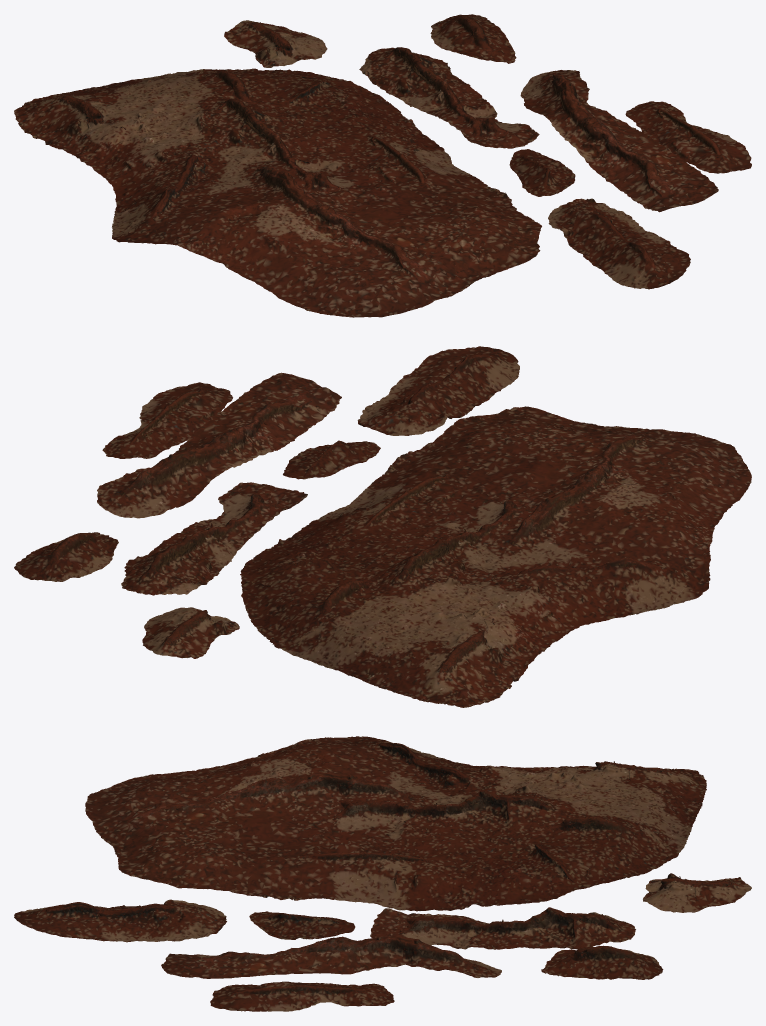
The model's file is root_cluster_02.glb.
The picture shows the model from 3 angles, top to bottom: view 1: azimuth 30°, elevation 25°; view 2: azimuth 150°, elevation 25°; view 3: azimuth 270°, elevation 25°; orthographic projection. The views are drawn at different scales.
Visible parts, largest first — view 1: root_cluster_02_d; view 2: root_cluster_02_d; view 3: root_cluster_02_d.
Part boxes in pixels (box(x1,y1,x2,y2)): root_cluster_02_d: box(14, 14, 751, 317); root_cluster_02_d: box(14, 346, 751, 707); root_cluster_02_d: box(14, 736, 751, 1011).
Size of the model in its own units: 2.38 by 0.1987 by 2.71.
1 material, 1 textured.
